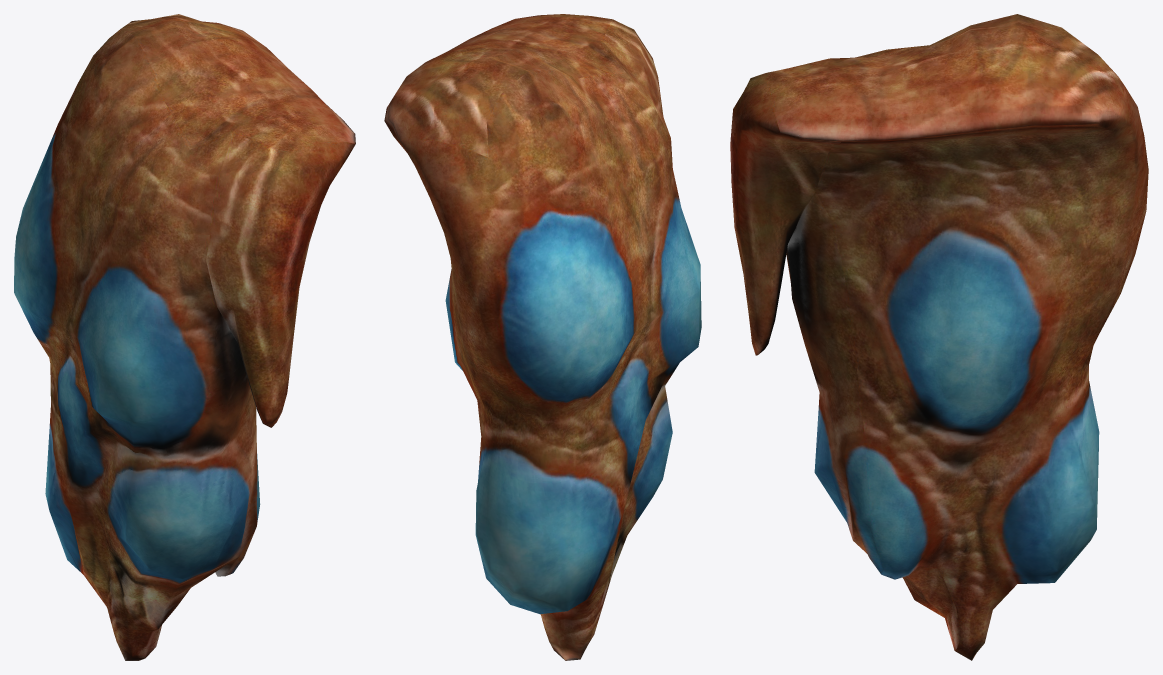
File: FBX_goo_overhang2_anim.fbx
3 views of the same model, side by side, from view 1: azimuth 30°, elevation 25°; view 2: azimuth 150°, elevation 25°; view 3: azimuth 270°, elevation 25° (orthographic). The views are drawn at different scales.
Parts seen in each view (by area): view 1: overhang_2; view 2: overhang_2; view 3: overhang_2.
Part boxes in pixels (x1,y1,x2,y2): overhang_2: [14, 14, 355, 660]; overhang_2: [384, 14, 701, 660]; overhang_2: [730, 14, 1148, 660].
Size of the model in its own units: 1 by 1.44 by 2.51.
